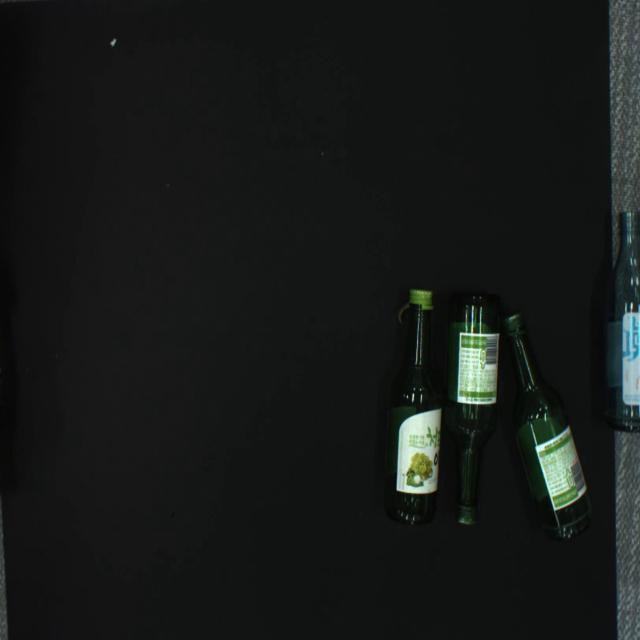soju-bottle: (501, 312, 594, 540), (383, 288, 441, 525), (443, 289, 501, 526), (602, 211, 640, 433)
